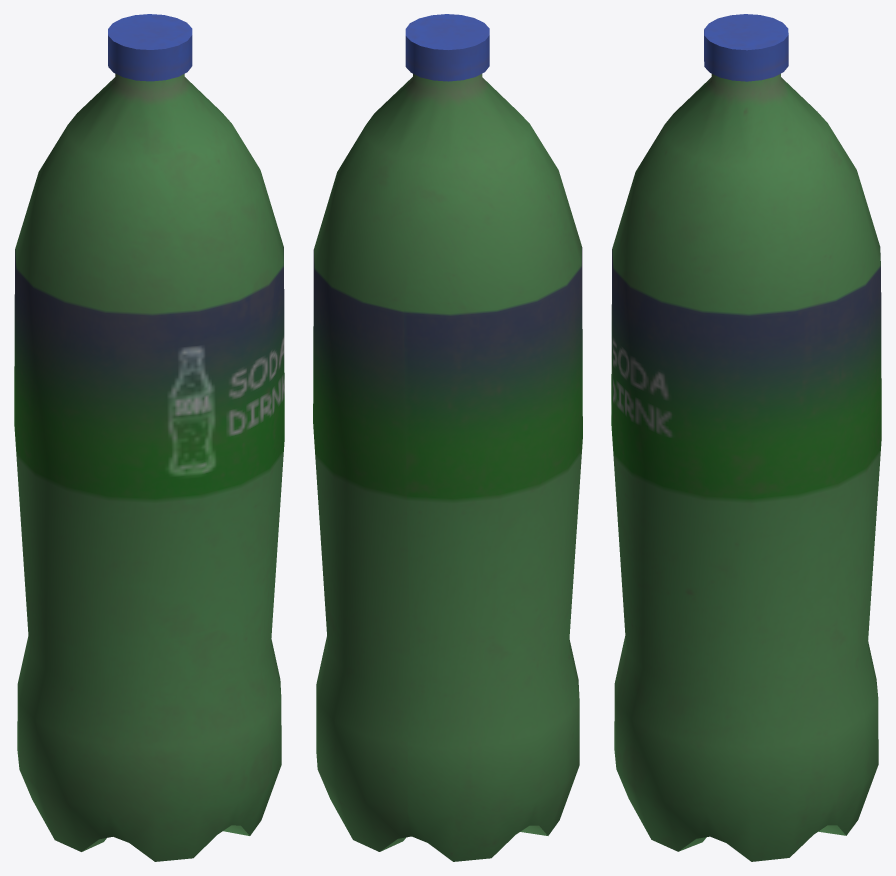
The model's file is SM_Small_Trash_Bottle_03.FBX.
The picture shows the model from 3 angles, left to right: view 1: azimuth 30°, elevation 25°; view 2: azimuth 150°, elevation 25°; view 3: azimuth 270°, elevation 25°; orthographic projection.
Parts seen in each view (by area): view 1: SM_Small_Trash_Bottle_03_LOD0; view 2: SM_Small_Trash_Bottle_03_LOD0; view 3: SM_Small_Trash_Bottle_03_LOD0.
Boxes of the visible parts, left/top/right/bottom form: SM_Small_Trash_Bottle_03_LOD0: left=14, top=14, right=284, bottom=861; SM_Small_Trash_Bottle_03_LOD0: left=313, top=14, right=582, bottom=861; SM_Small_Trash_Bottle_03_LOD0: left=611, top=14, right=881, bottom=861.
Size of what is drawn, in the model's own units: 8.2 by 8.11 by 25.88.
